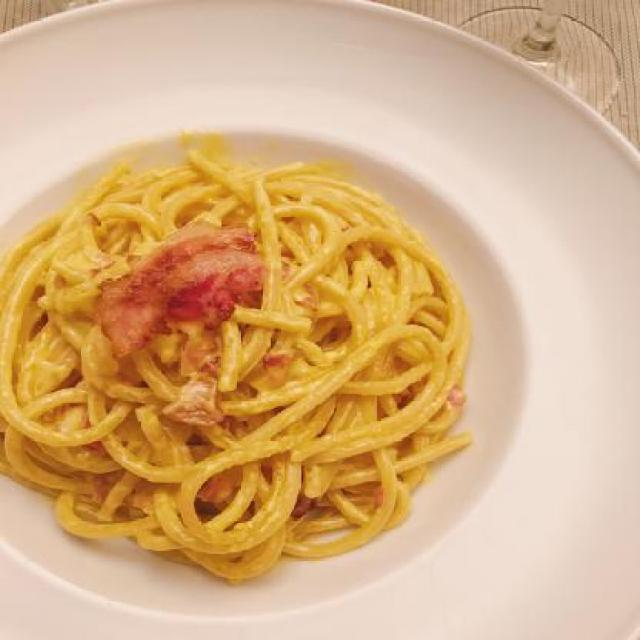Pasta with carbonara sauce: (17, 138, 594, 620)
